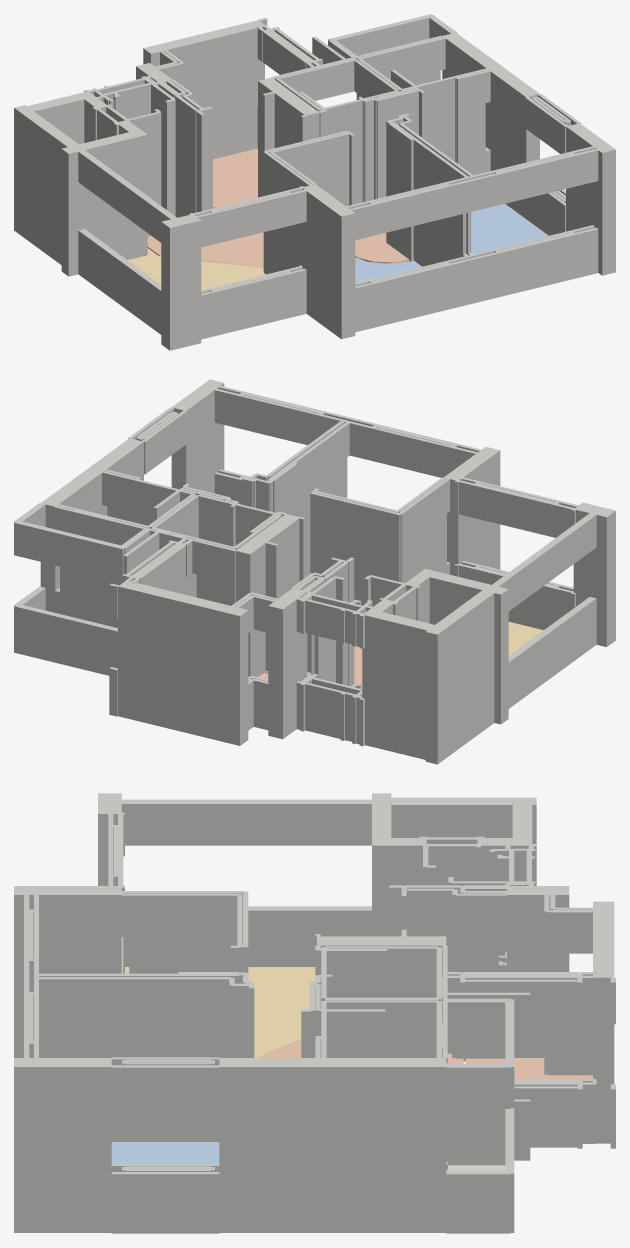
The picture shows the model from 3 angles, top to bottom: view 1: azimuth 30°, elevation 25°; view 2: azimuth 150°, elevation 25°; view 3: azimuth 270°, elevation 25°; orthographic projection. The views are drawn at different scales.
Visible parts, largest first — view 1: walls, room:kitchen:0, room:bedroom:2, room:kitchen:6, room:living:5, room:bedroom:4; view 2: walls, room:living:5; view 3: walls, room:living:5, room:bedroom:2, room:kitchen:6.
Boxes of the visible parts, box(x1,y1,x2,y2) form: walls: box(14, 14, 615, 350); room:kitchen:0: box(147, 207, 409, 267); room:bedroom:2: box(471, 204, 548, 253); room:kitchen:6: box(213, 148, 257, 207); room:living:5: box(128, 248, 265, 290); room:bedroom:4: box(355, 257, 421, 282); walls: box(14, 379, 615, 764); room:living:5: box(508, 622, 543, 655); walls: box(14, 793, 615, 1233); room:living:5: box(125, 967, 315, 1057); room:bedroom:2: box(111, 1142, 219, 1163); room:kitchen:6: box(465, 1058, 592, 1079).
Bounding box in the file's own units: 9.93 × 2.8 × 9.21.
